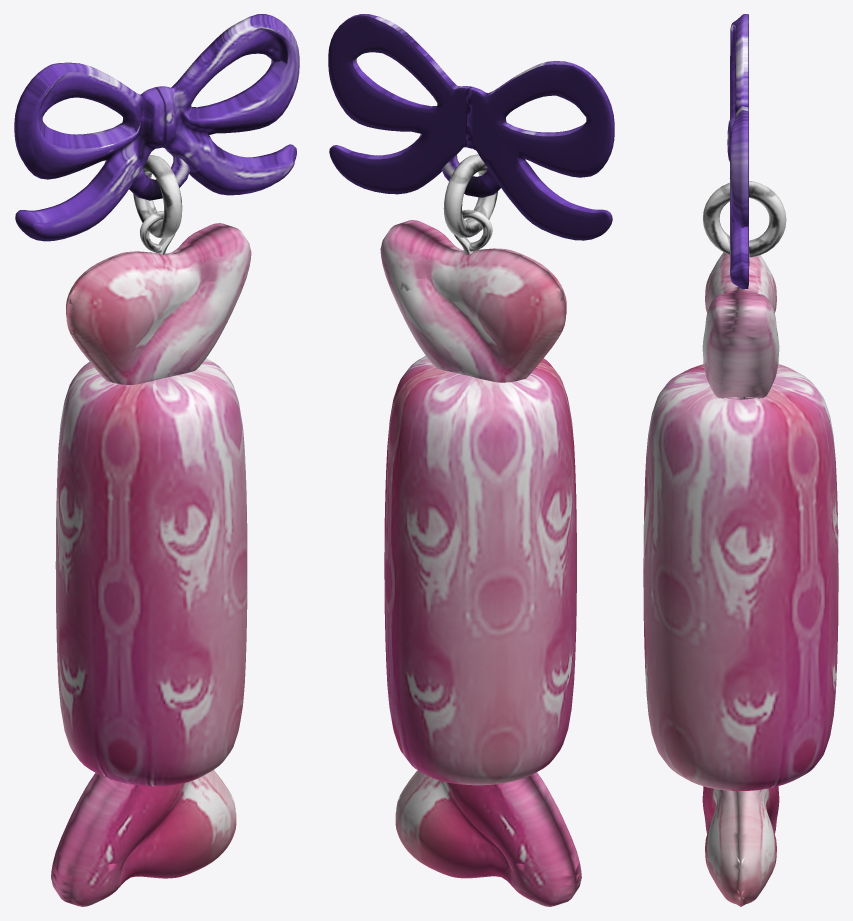
The model's file is earring_AR.glb.
3 renders of one model, left to right at view 1: azimuth 30°, elevation 25°; view 2: azimuth 150°, elevation 25°; view 3: azimuth 270°, elevation 25°, orthographic. The views are drawn at different scales.
Parts seen in each view (by area): view 1: earring; view 2: earring; view 3: earring.
Boxes of the visible parts, box(x1,y1,x2,y2) form: earring: box(14, 14, 299, 906); earring: box(328, 14, 614, 906); earring: box(643, 14, 838, 906).
Bounding box in the file's own units: 0.0212 × 0.06 × 0.0129.
Materials: 1 (1 with a texture image).
